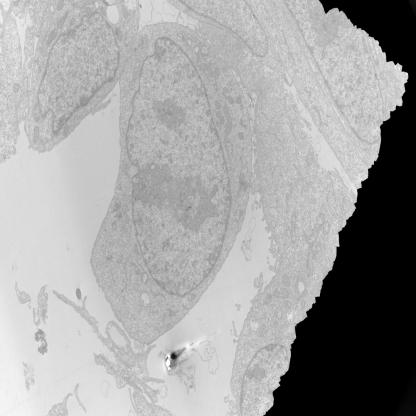mitochondria: (310, 211, 326, 243), (128, 58, 140, 90), (223, 103, 233, 135), (57, 8, 70, 30), (290, 212, 297, 245), (274, 286, 290, 298), (388, 70, 396, 92), (48, 28, 58, 45), (342, 196, 351, 214), (132, 244, 142, 260), (121, 7, 131, 22), (115, 26, 123, 42), (33, 125, 40, 143), (56, 0, 65, 12), (282, 274, 291, 286), (323, 221, 330, 236), (238, 173, 246, 186), (187, 292, 197, 302), (63, 124, 70, 138), (276, 306, 283, 320), (216, 112, 224, 124), (258, 325, 266, 337), (214, 100, 222, 111), (12, 82, 20, 93), (315, 241, 322, 253), (242, 181, 249, 193), (264, 295, 273, 304), (396, 87, 402, 99), (222, 87, 229, 97), (284, 300, 291, 310), (134, 266, 141, 276), (337, 217, 342, 230), (68, 18, 76, 26), (111, 221, 118, 230), (85, 7, 92, 16), (100, 6, 106, 16), (236, 97, 244, 104), (379, 72, 386, 80), (215, 67, 220, 78), (238, 132, 244, 140), (122, 205, 127, 214), (388, 102, 393, 110), (228, 96, 233, 104), (117, 184, 122, 191), (221, 66, 226, 73), (378, 53, 383, 60), (38, 67, 42, 74)
